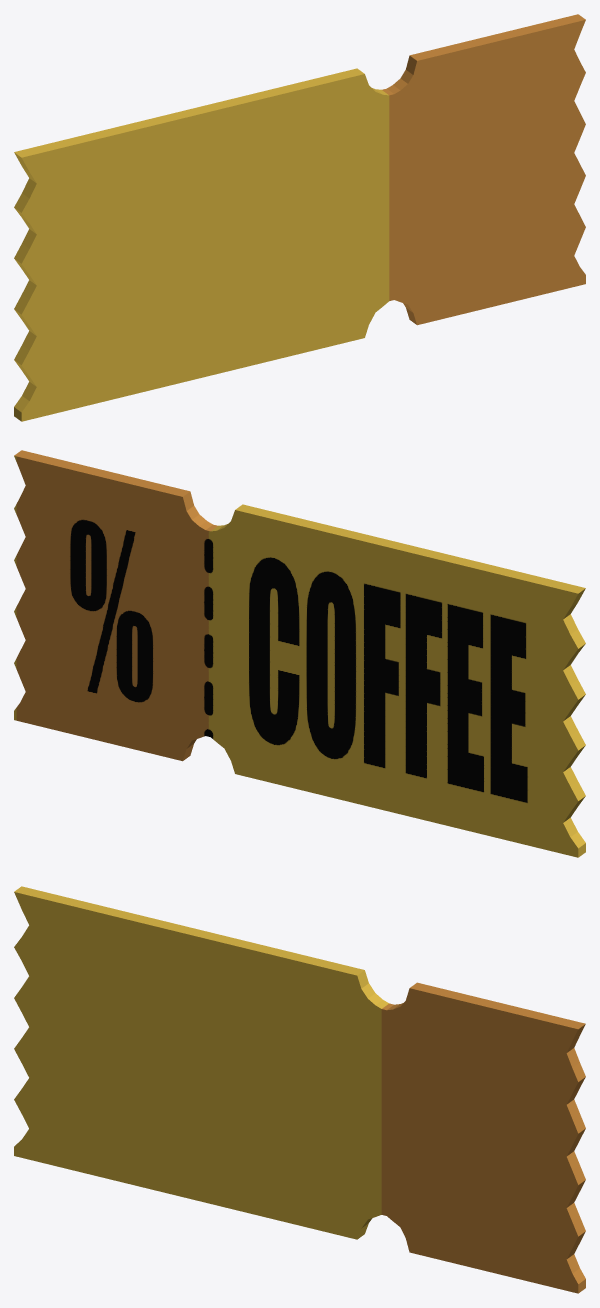
Rendered from voucher_coffee.fbx.
The picture shows the model from 3 angles, top to bottom: view 1: azimuth 30°, elevation 25°; view 2: azimuth 150°, elevation 25°; view 3: azimuth 330°, elevation 25°; orthographic projection.
Visible parts, largest first — view 1: Cube.008; view 2: Cube.008; view 3: Cube.008.
Part boxes in pixels (bbox=[...]): Cube.008: bbox=[14, 14, 585, 421]; Cube.008: bbox=[14, 450, 585, 857]; Cube.008: bbox=[14, 886, 585, 1293].
Size of the model in its own units: 0.7989 by 0.3576 by 0.0187.
3 materials, 1 textured.
